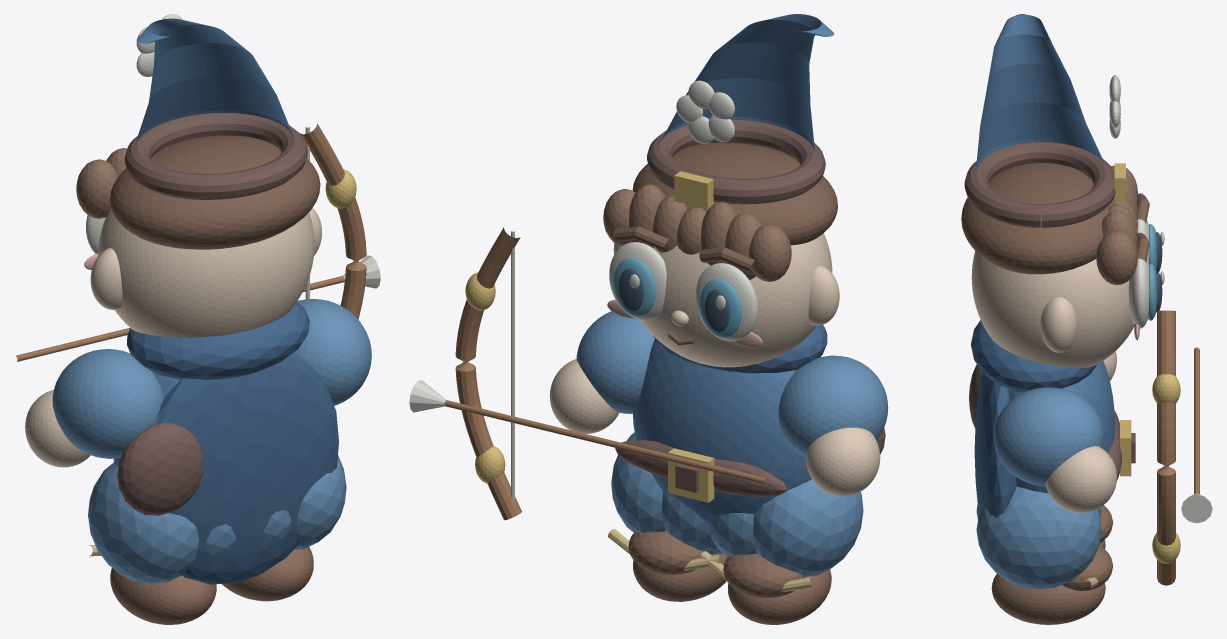
Rendered from mago_the_first_spark.glb.
The picture shows the model from 3 angles, left to right: view 1: azimuth 30°, elevation 25°; view 2: azimuth 150°, elevation 25°; view 3: azimuth 270°, elevation 25°; orthographic projection. The views are drawn at different scales.
Visible parts, largest first — view 1: cape, head, hair_crown, hat_curved_crown, hat_band, sleeve_L, robe_flap-0.38, hood, satchel, sleeve_R, boot_L, grandfather_bow (+9 smaller); view 2: tunic, head, hat_curved_crown, robe_flap-0.38, sleeve_L, hair_crown, hat_band, sleeve_R, grandfather_bow, hand_L, hand_R, robe_flap0.38 (+31 smaller); view 3: head, hat_curved_crown, hair_crown, robe_flap0.38, sleeve_R, hat_band, grandfather_bow, cape, boot_R, hood, hand_R, tunic (+14 smaller).
Boxes of the visible parts, bbox=[...] form: cape: bbox=[143, 352, 338, 584]; head: bbox=[98, 208, 314, 337]; hair_crown: bbox=[110, 135, 320, 249]; hat_curved_crown: bbox=[135, 18, 293, 143]; hat_band: bbox=[124, 113, 307, 199]; sleeve_L: bbox=[52, 349, 163, 458]; robe_flap-0.38: bbox=[88, 462, 199, 583]; hood: bbox=[127, 302, 309, 379]; satchel: bbox=[117, 423, 204, 515]; sleeve_R: bbox=[297, 299, 371, 405]; boot_L: bbox=[110, 568, 216, 624]; grandfather_bow: bbox=[300, 123, 366, 319]; tunic: bbox=[633, 339, 811, 523]; head: bbox=[640, 233, 832, 367]; hat_curved_crown: bbox=[661, 14, 834, 152]; robe_flap-0.38: bbox=[753, 479, 863, 576]; sleeve_L: bbox=[778, 355, 888, 456]; hair_crown: bbox=[632, 142, 837, 245]; hat_band: bbox=[647, 119, 825, 204]; sleeve_R: bbox=[576, 311, 654, 413]; grandfather_bow: bbox=[455, 227, 521, 520]; hand_L: bbox=[806, 427, 880, 496]; hand_R: bbox=[549, 359, 618, 433]; robe_flap0.38: bbox=[611, 432, 665, 532]; head: bbox=[971, 251, 1134, 367]; hat_curved_crown: bbox=[976, 14, 1105, 172]; hair_crown: bbox=[961, 163, 1115, 274]; robe_flap0.38: bbox=[976, 486, 1101, 589]; sleeve_R: bbox=[993, 387, 1103, 486]; hat_band: bbox=[964, 142, 1115, 227]; grandfather_bow: bbox=[1157, 310, 1175, 585]; cape: bbox=[974, 372, 1016, 517]; boot_R: bbox=[991, 573, 1105, 624]; hood: bbox=[971, 320, 1097, 392]; hand_R: bbox=[1045, 446, 1116, 512]; tunic: bbox=[1008, 361, 1115, 493].
Size of the model in its own units: 2.25 by 3.19 by 1.52.
